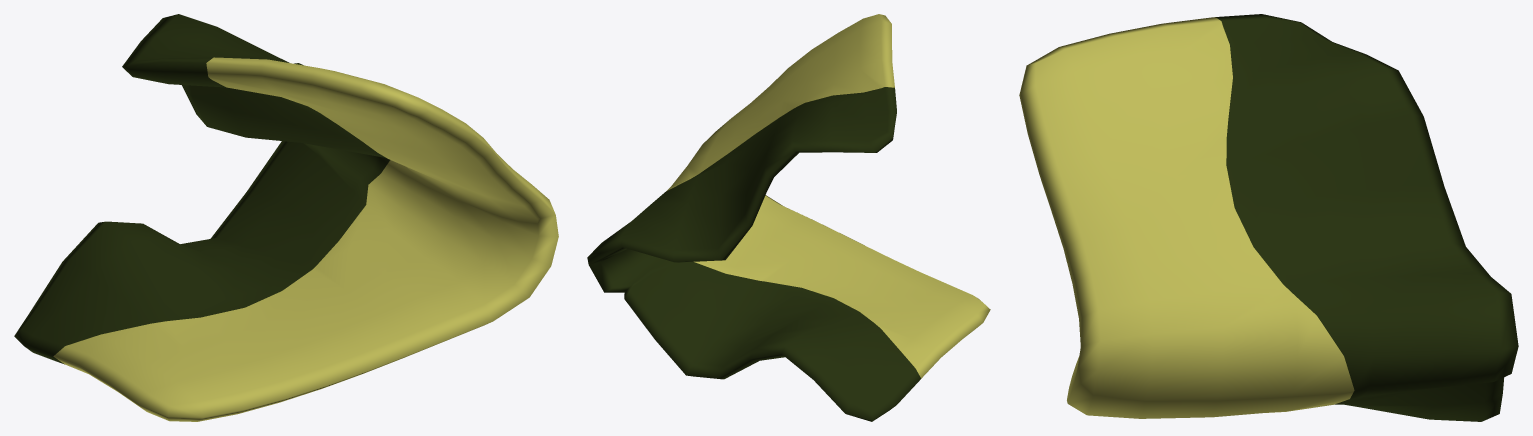
The model's file is RAW_sauerkraut.fbx.
3 renders of one model, left to right at view 1: azimuth 30°, elevation 25°; view 2: azimuth 150°, elevation 25°; view 3: azimuth 270°, elevation 25°, orthographic. The views are drawn at different scales.
Visible parts, largest first — view 1: RAW_sauerkraut; view 2: RAW_sauerkraut; view 3: RAW_sauerkraut.
Boxes of the visible parts, x1=… form: RAW_sauerkraut: x1=14, y1=14, x2=558, y2=421; RAW_sauerkraut: x1=587, y1=14, x2=990, y2=421; RAW_sauerkraut: x1=1019, y1=14, x2=1518, y2=421.
Bounding box in the file's own units: 0.0495 × 0.0431 × 0.0526.
